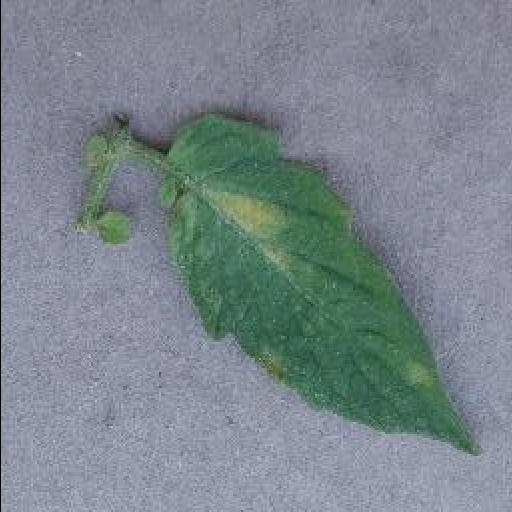disease_tomato: (152, 115, 484, 456)
